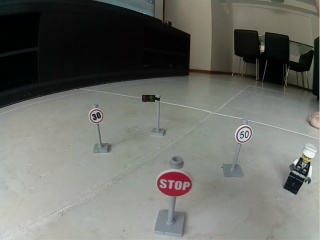Green Traffic Light: (141, 93, 165, 137)
Person: (282, 143, 318, 195)
Speed Limit 30: (89, 109, 104, 123)
Speed Limit 50: (235, 125, 252, 144)
Stop Sign: (156, 170, 193, 196)
